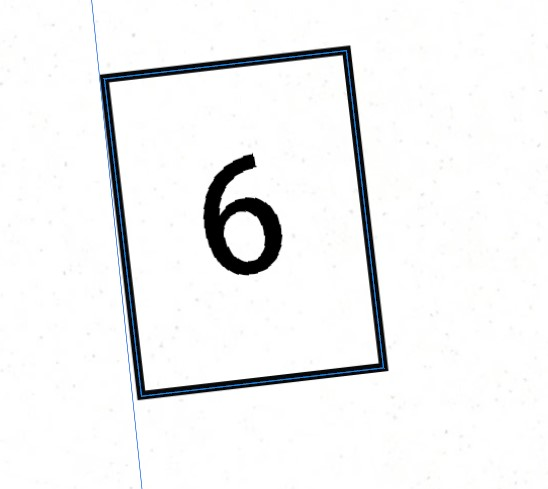six: (153, 109, 335, 329)
